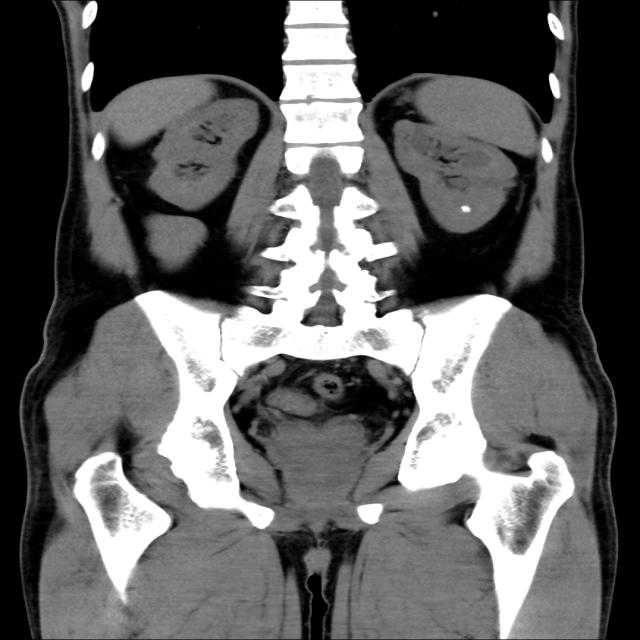kidneystone: (460, 205, 472, 213)
